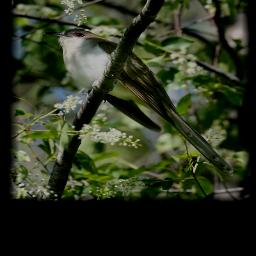Cuckoo: (43, 27, 237, 180)
